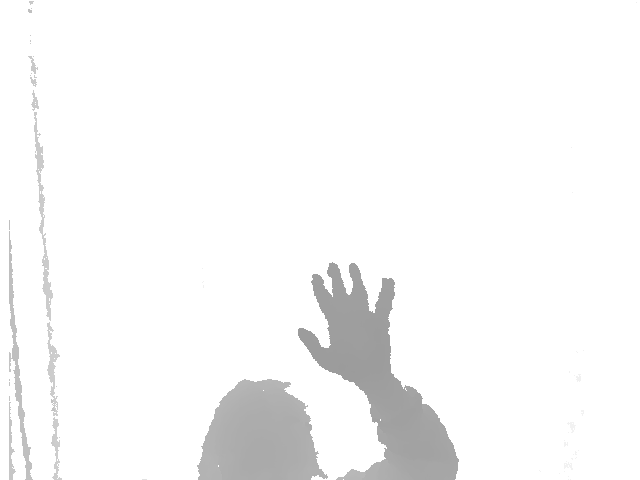hand: (297, 262, 395, 387)
head: (197, 379, 330, 480)
person: (198, 263, 458, 480)
